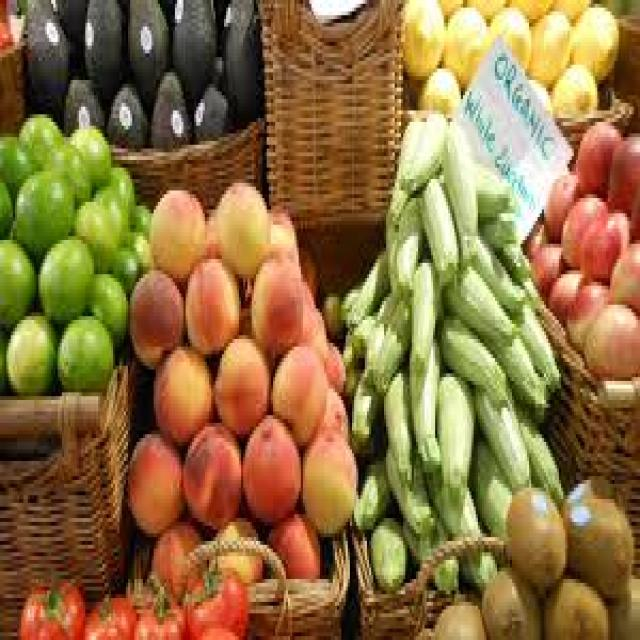organic waste: (435, 480, 497, 590), (564, 495, 630, 598), (241, 411, 299, 526), (472, 369, 529, 484), (442, 313, 508, 412), (506, 484, 565, 594), (150, 339, 213, 442), (181, 419, 239, 530), (299, 423, 354, 537), (124, 427, 183, 533), (442, 259, 514, 343), (124, 267, 186, 362), (267, 343, 324, 442), (213, 332, 269, 431), (439, 114, 476, 263), (183, 256, 239, 350), (213, 179, 267, 274), (149, 183, 205, 274), (247, 255, 301, 347), (403, 331, 440, 465), (382, 434, 433, 530), (183, 564, 250, 636), (436, 362, 470, 503), (19, 0, 66, 99), (34, 232, 92, 312), (222, 0, 260, 122), (514, 290, 559, 388), (53, 308, 111, 384), (540, 572, 608, 636), (470, 229, 520, 316), (418, 171, 457, 282), (480, 564, 540, 636), (582, 297, 638, 373), (149, 518, 205, 594), (13, 168, 72, 240), (406, 503, 454, 590), (471, 431, 510, 537), (516, 404, 561, 495), (171, 0, 213, 95), (126, 0, 168, 95), (17, 575, 81, 636), (578, 206, 629, 282), (574, 114, 621, 194), (373, 290, 410, 388), (341, 244, 386, 324), (4, 308, 49, 388), (265, 514, 320, 579), (205, 514, 260, 579), (396, 110, 442, 186), (559, 190, 606, 263), (360, 282, 397, 373), (506, 328, 546, 412), (440, 4, 484, 80), (0, 232, 36, 323), (399, 0, 442, 76), (606, 130, 638, 232), (568, 4, 616, 72), (527, 8, 572, 80), (79, 0, 119, 80), (365, 510, 405, 590), (382, 366, 409, 480), (73, 194, 115, 267), (559, 472, 625, 518), (408, 259, 435, 370), (565, 278, 608, 347), (147, 65, 186, 141), (83, 271, 126, 339), (550, 57, 596, 118), (486, 4, 529, 68), (59, 73, 104, 134), (66, 122, 111, 183), (15, 110, 62, 168), (134, 583, 184, 636), (352, 450, 386, 526), (471, 156, 512, 217), (0, 133, 38, 198), (544, 168, 580, 236), (83, 587, 132, 636), (107, 84, 145, 145), (429, 594, 484, 636), (92, 160, 132, 217), (388, 221, 421, 289), (190, 73, 226, 134), (608, 240, 638, 309), (350, 369, 377, 442), (529, 236, 561, 297), (386, 160, 416, 225), (416, 65, 459, 110), (608, 572, 638, 636), (384, 202, 405, 289), (546, 271, 580, 316), (493, 236, 529, 278), (264, 202, 294, 251), (51, 0, 83, 42), (109, 244, 141, 286), (118, 221, 150, 263), (350, 301, 373, 358), (299, 301, 324, 347), (324, 339, 344, 389), (322, 290, 341, 335), (465, 0, 508, 19), (126, 198, 151, 229), (205, 206, 218, 259), (508, 0, 552, 15), (0, 179, 13, 229), (433, 0, 467, 19), (552, 0, 591, 15), (196, 621, 233, 636), (298, 278, 312, 305), (0, 323, 4, 388)
